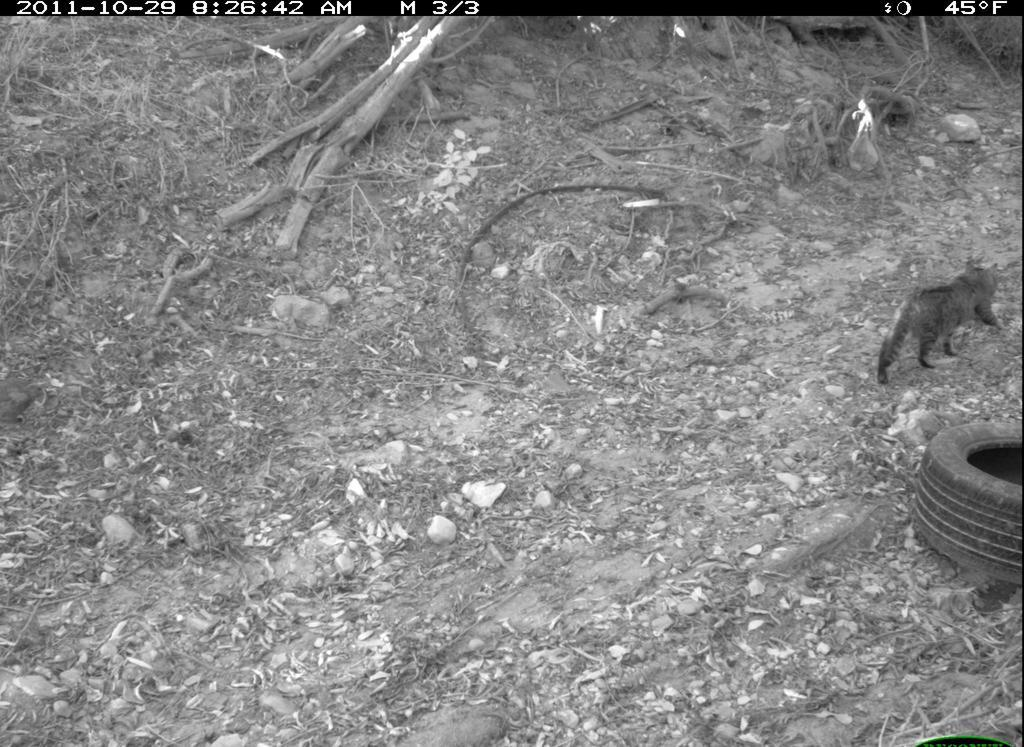cat: (873, 255, 1009, 390)
